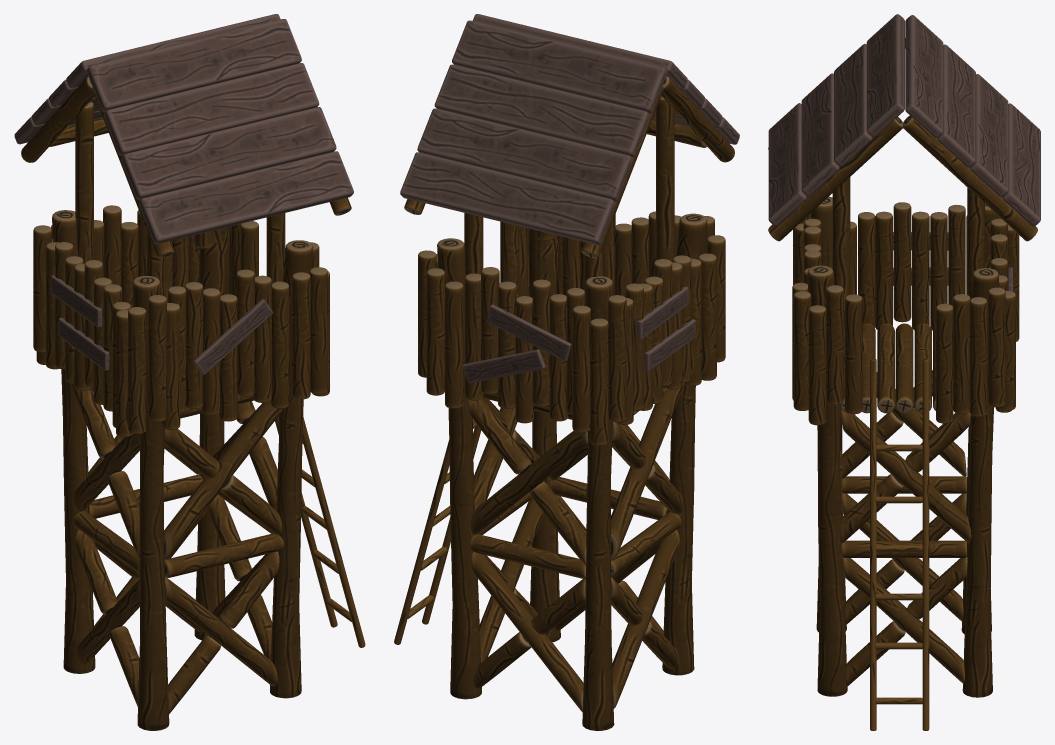
Rendered from Tower_Built.fbx.
The picture shows the model from 3 angles, left to right: view 1: azimuth 30°, elevation 25°; view 2: azimuth 150°, elevation 25°; view 3: azimuth 270°, elevation 25°; orthographic projection. The views are drawn at different scales.
Visible parts, largest first — view 1: Tower_Built; view 2: Tower_Built; view 3: Tower_Built.
Part boxes in pixels (x1,y1,x2,y2): Tower_Built: [14, 14, 365, 730]; Tower_Built: [394, 14, 739, 730]; Tower_Built: [768, 14, 1040, 730].
Bounding box in the file's own units: 4.96 × 11.2 × 4.6.
